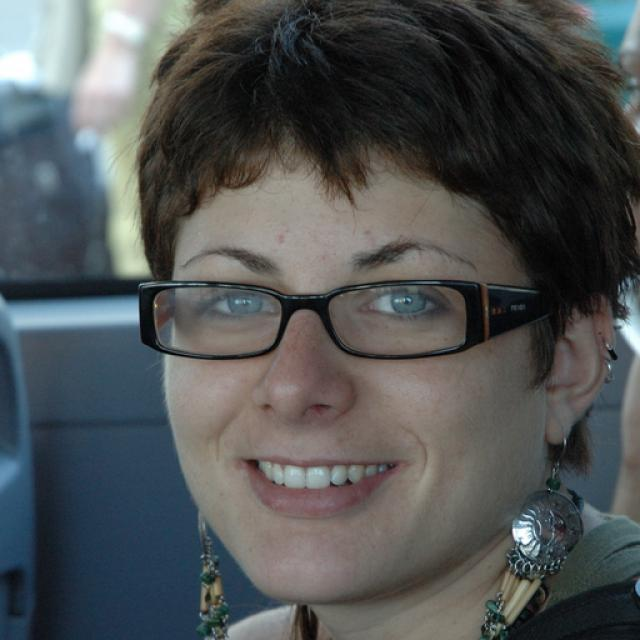happy: (164, 153, 545, 602)
